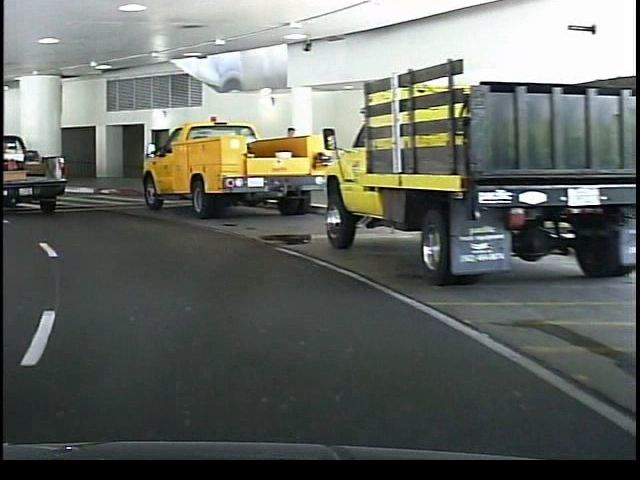person: (276, 121, 301, 199)
